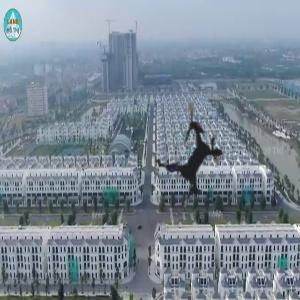drone: (115, 79, 272, 236)
